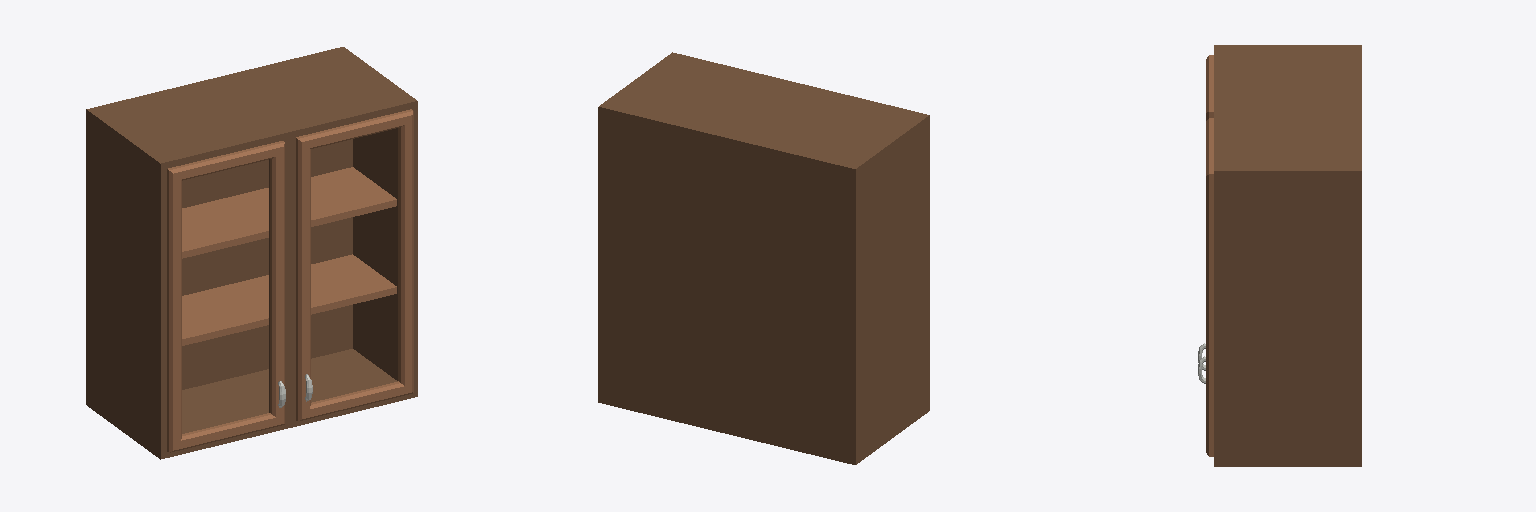
The model's file is Structure_Kitchen_Cabinet_Wall_Open.obj.
3 renders of one model, left to right at view 1: azimuth 30°, elevation 25°; view 2: azimuth 150°, elevation 25°; view 3: azimuth 270°, elevation 25°, orthographic.
Visible parts, largest first — view 1: object1, object2, object3; view 2: object1; view 3: object1, object2, object3.
Part boxes in pixels (bbox=[...]): object1: bbox=[86, 47, 417, 459]; object2: bbox=[296, 109, 413, 420]; object3: bbox=[167, 141, 285, 452]; object1: bbox=[598, 52, 929, 464]; object1: bbox=[1214, 45, 1361, 466]; object2: bbox=[1198, 118, 1213, 456]; object3: bbox=[1198, 55, 1213, 370].
Bounding box in the file's own units: 1 × 1.1 × 0.5531.